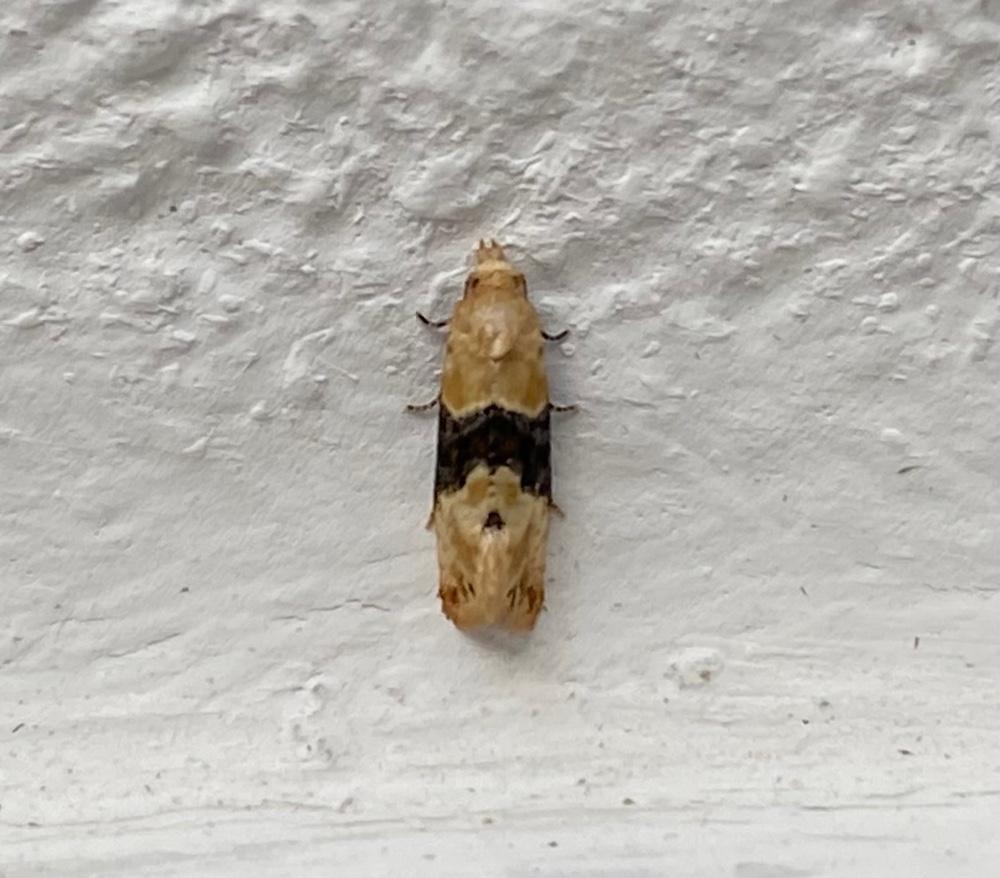Eupoecilia Ambiguella: (406, 235, 577, 643)
